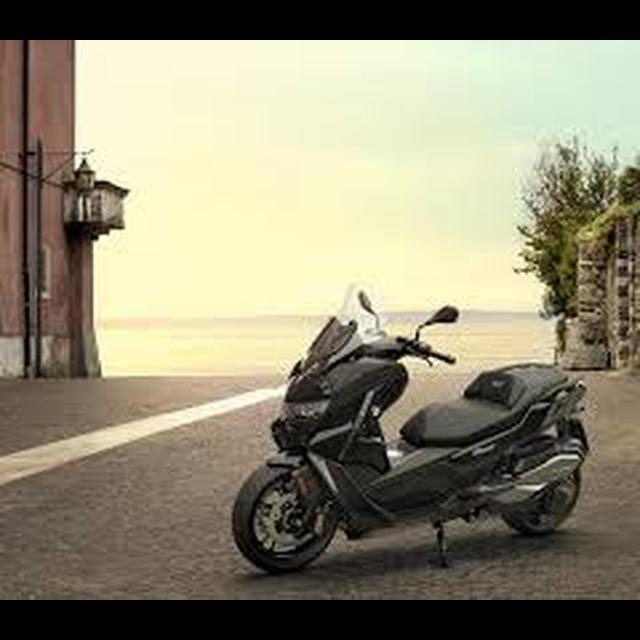motorcycle: (229, 275, 592, 581)
